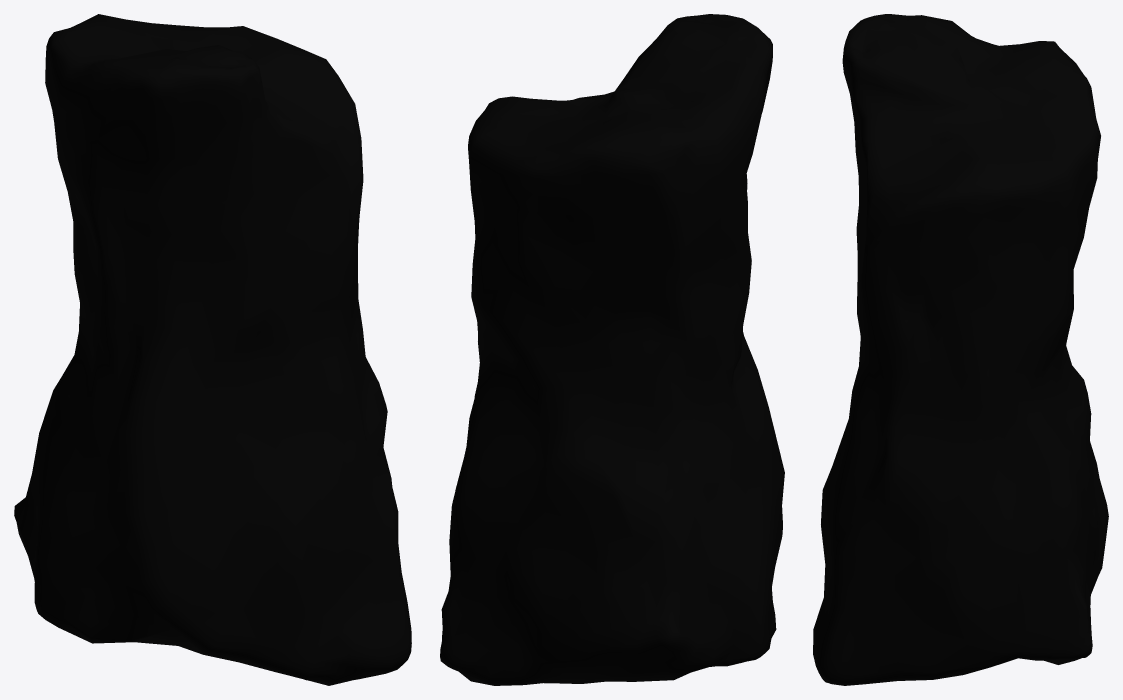
File: SM_Rock_06.fbx
3 renders of one model, left to right at view 1: azimuth 30°, elevation 25°; view 2: azimuth 150°, elevation 25°; view 3: azimuth 270°, elevation 25°, orthographic. The views are drawn at different scales.
Parts seen in each view (by area): view 1: SM_Rock_06_LOD0; view 2: SM_Rock_06_LOD0; view 3: SM_Rock_06_LOD0.
Part boxes in pixels (x1,y1,x2,y2): SM_Rock_06_LOD0: (14,14,411,685); SM_Rock_06_LOD0: (440,14,784,685); SM_Rock_06_LOD0: (813,14,1108,685).
Size of the model in its own units: 424 by 377 by 820.
